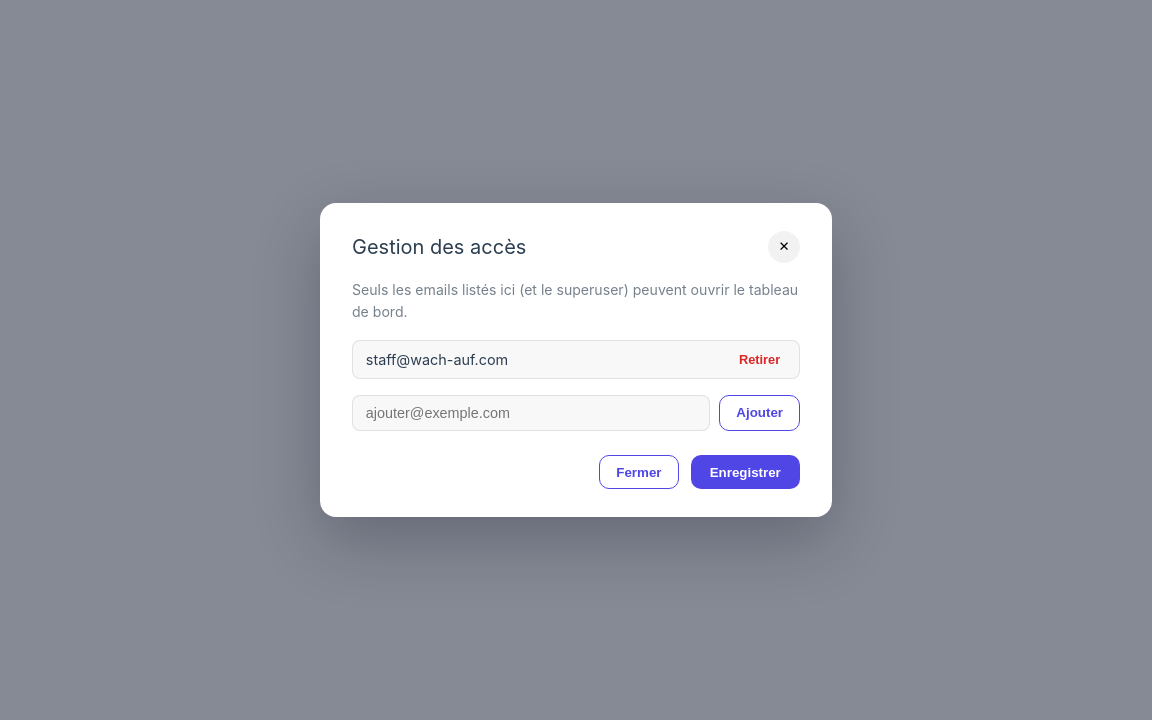
Test: AccessModal › ajoute, retire et enregistre la liste
In the field with placeholder "ajouter@exemple.com": (531, 413) [352,395,710,431], type "aide@Wach-Auf.com"
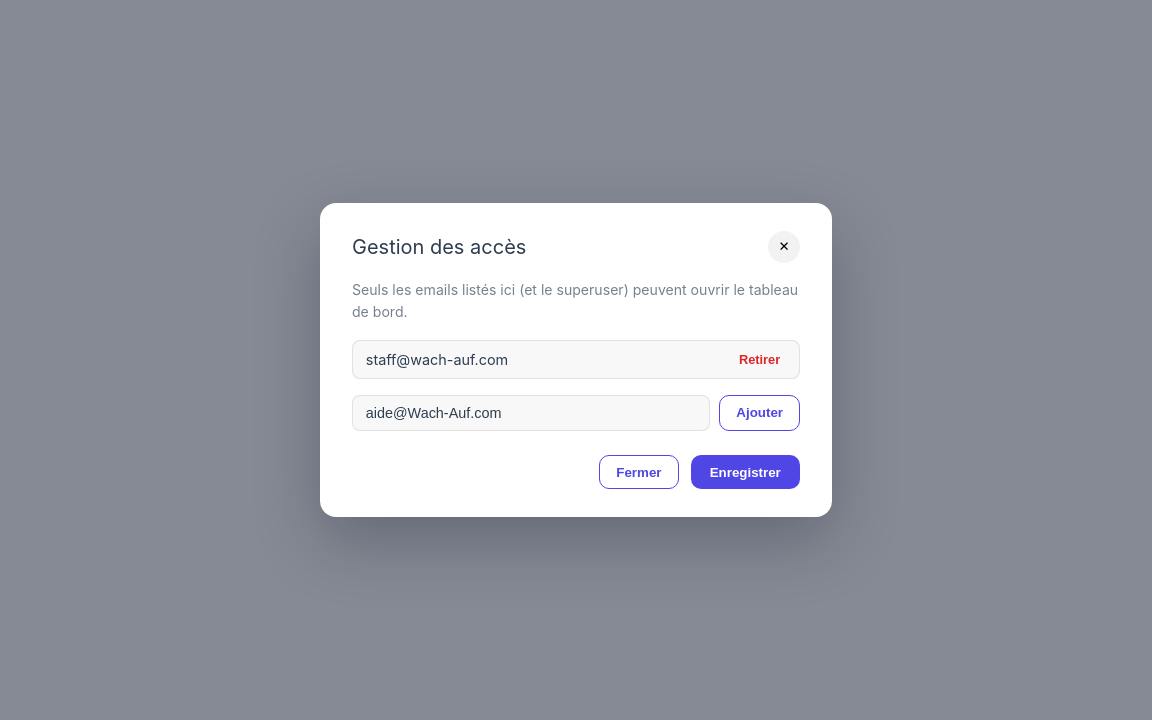
Submit the form, box [352,395,800,431]
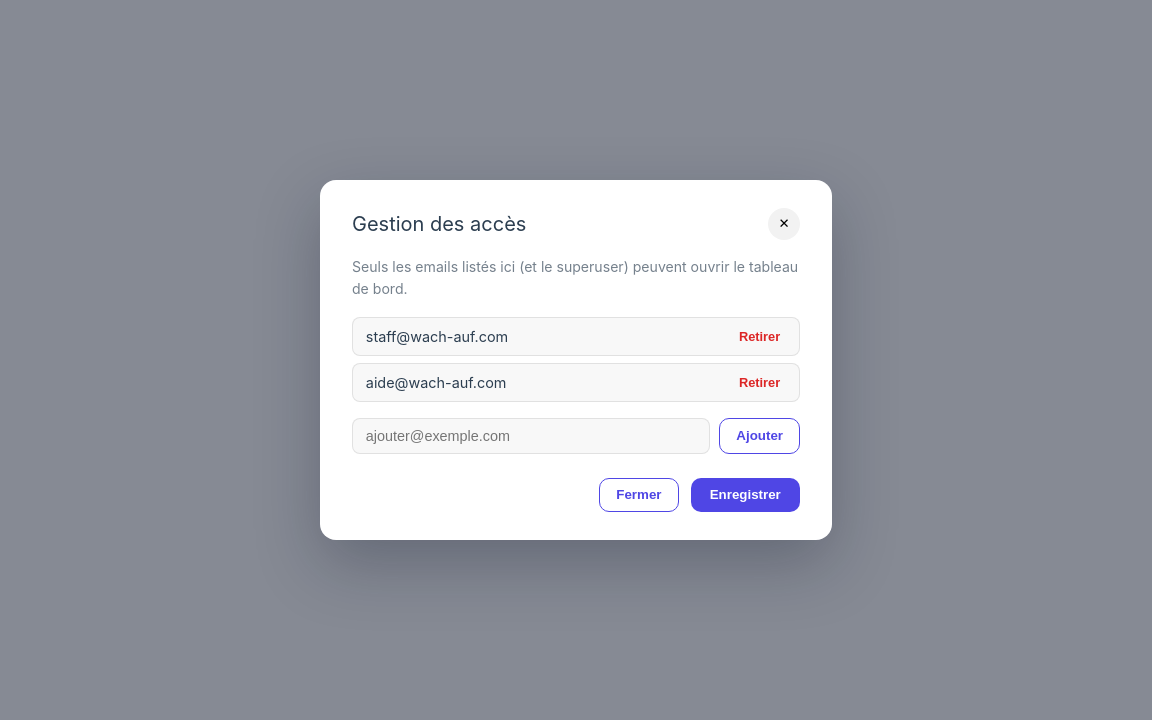
Check: the text "aide@wach-auf.com" is shown, box [366,371,506,394]
Click the button with class "btn-remove" in the row of "staff@wach-auf.com": click(760, 336) [733,328,786,345]
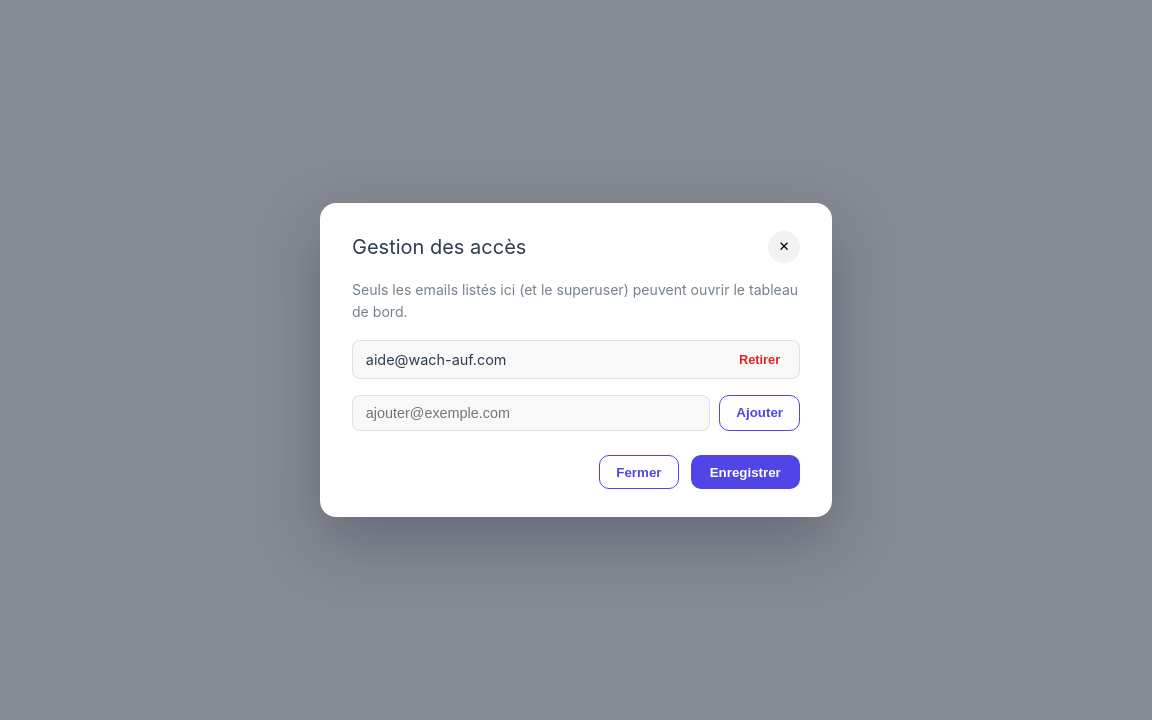
Check: the text "staff@wach-auf.com" is gone
Click the button "Enregistrer": click(745, 472) [690,455,800,489]
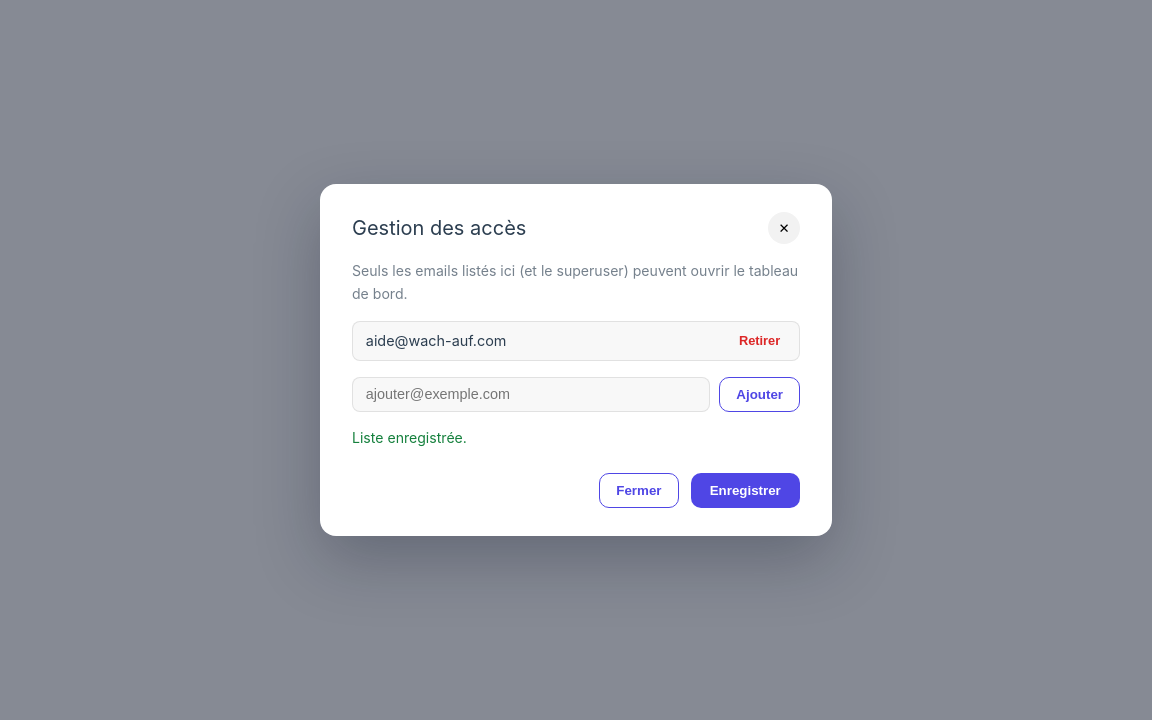
Check: the text "Liste enregistrée" is shown, box [352,429,467,446]
